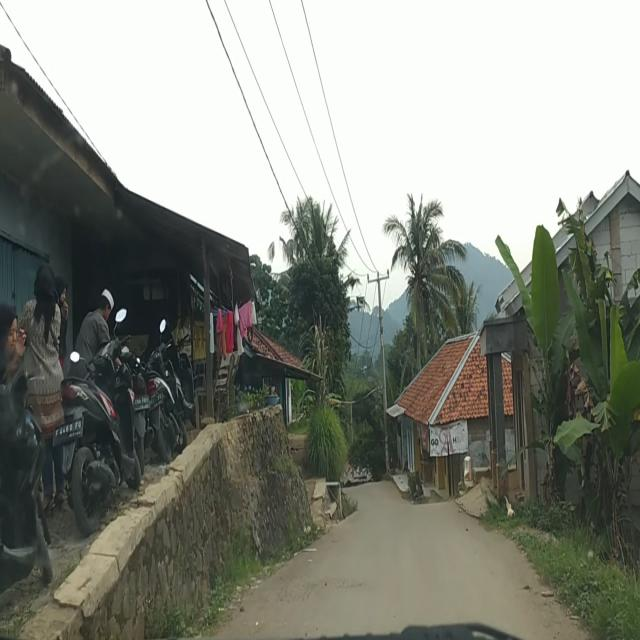Drain Hole: (278, 570, 354, 604)
